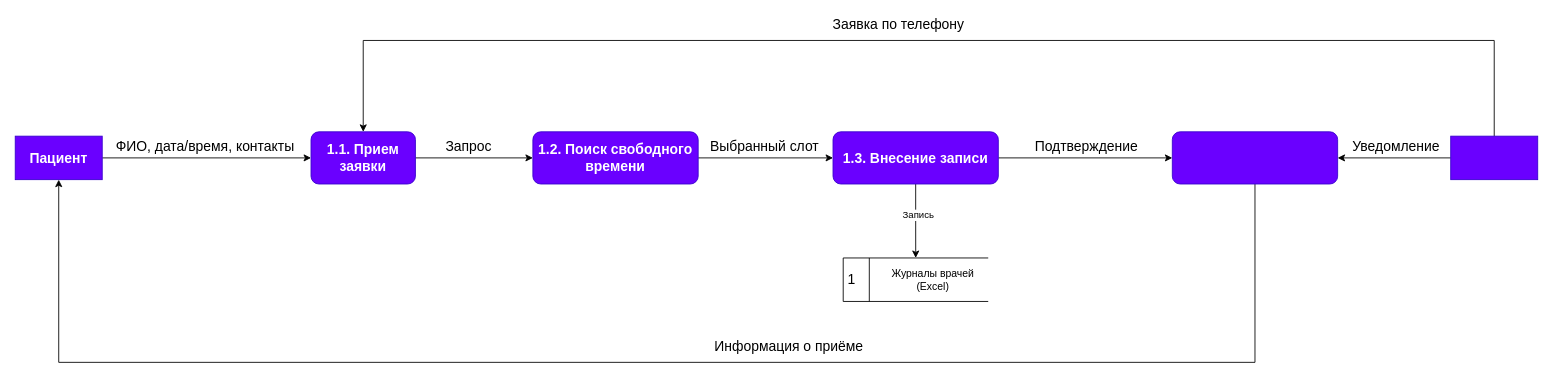
Some shapes in this 1553 by 385 pixel diagram are drawn without their labels. The shapes that lost their labels are listed below. From the top down, each one's centre as x and y in pixels, then its label:
At (1254,157): "1.4. Уведомление пациента".
At (1494,157): "Сотрудник ресепшена".
